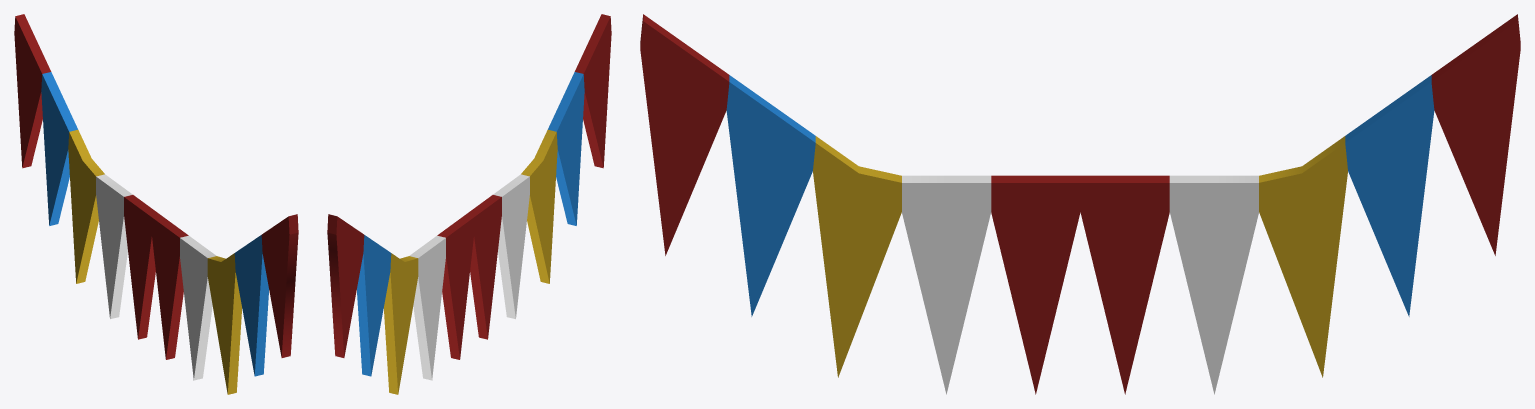
File: Banner Textured.FBX
The picture shows the model from 3 angles, left to right: view 1: azimuth 30°, elevation 25°; view 2: azimuth 150°, elevation 25°; view 3: azimuth 270°, elevation 25°; orthographic projection. The views are drawn at different scales.
Parts seen in each view (by area): view 1: Banner; view 2: Banner; view 3: Banner.
Boxes of the visible parts, x1,y1,x2,y2 form: Banner: (14,14,298,394); Banner: (327,14,611,394); Banner: (640,14,1520,394).
Bounding box in the file's own units: 0.182 × 4.47 × 9.54.
Materials: 4 (4 with a texture image).
